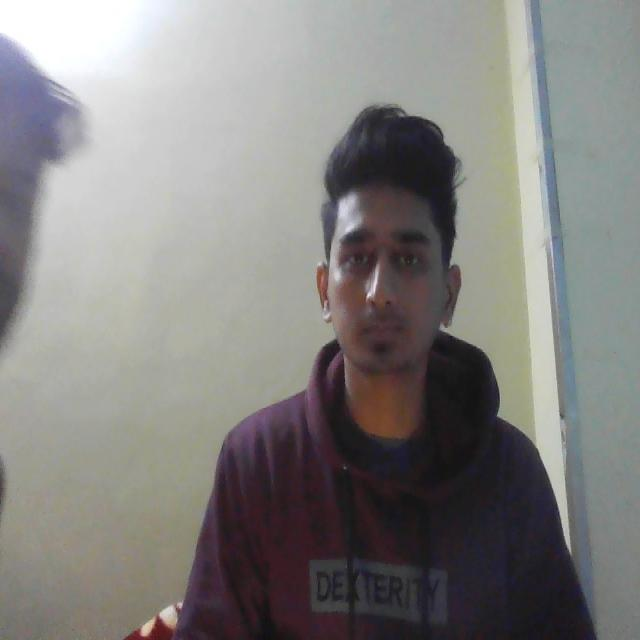real: (317, 119, 473, 413)
